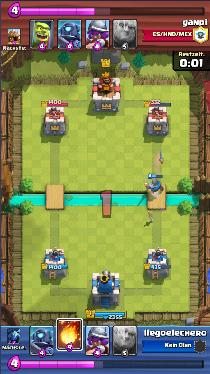ally_knight: (142, 178, 163, 194)
